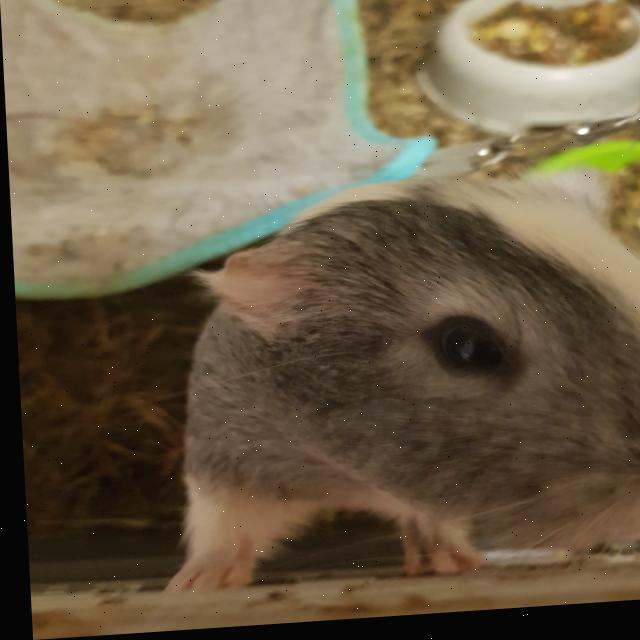guinea pig: (138, 162, 640, 612)
